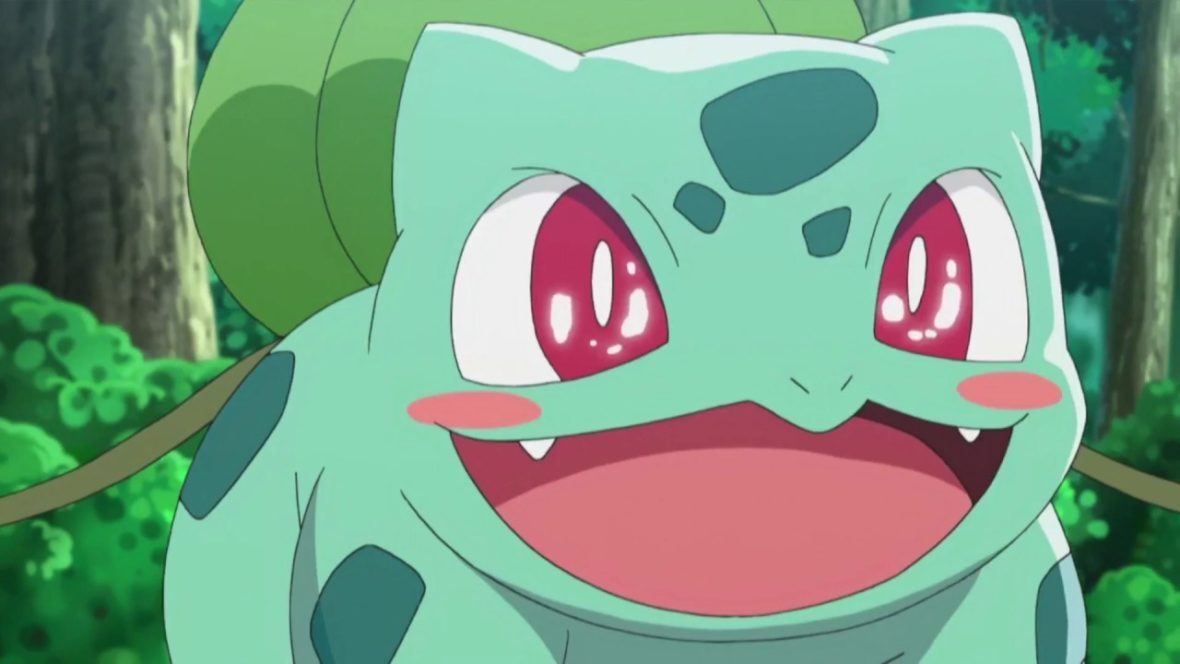001-bulbasaur: (193, 9, 1122, 660)
